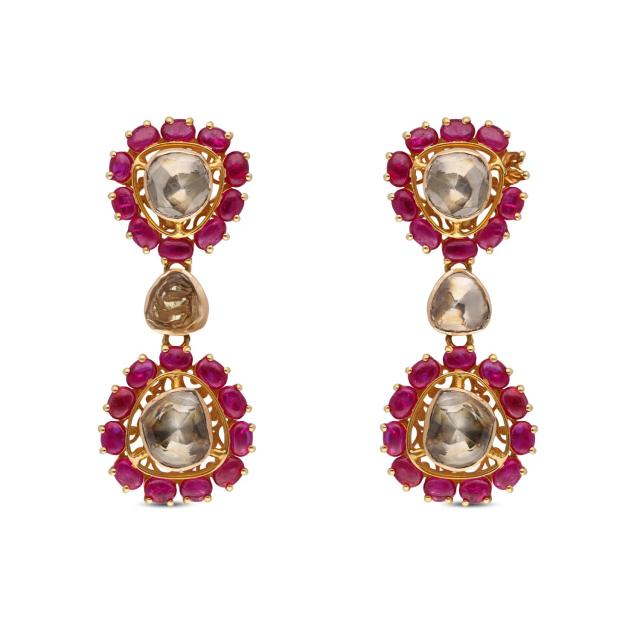missing gem: (146, 272, 200, 331)
